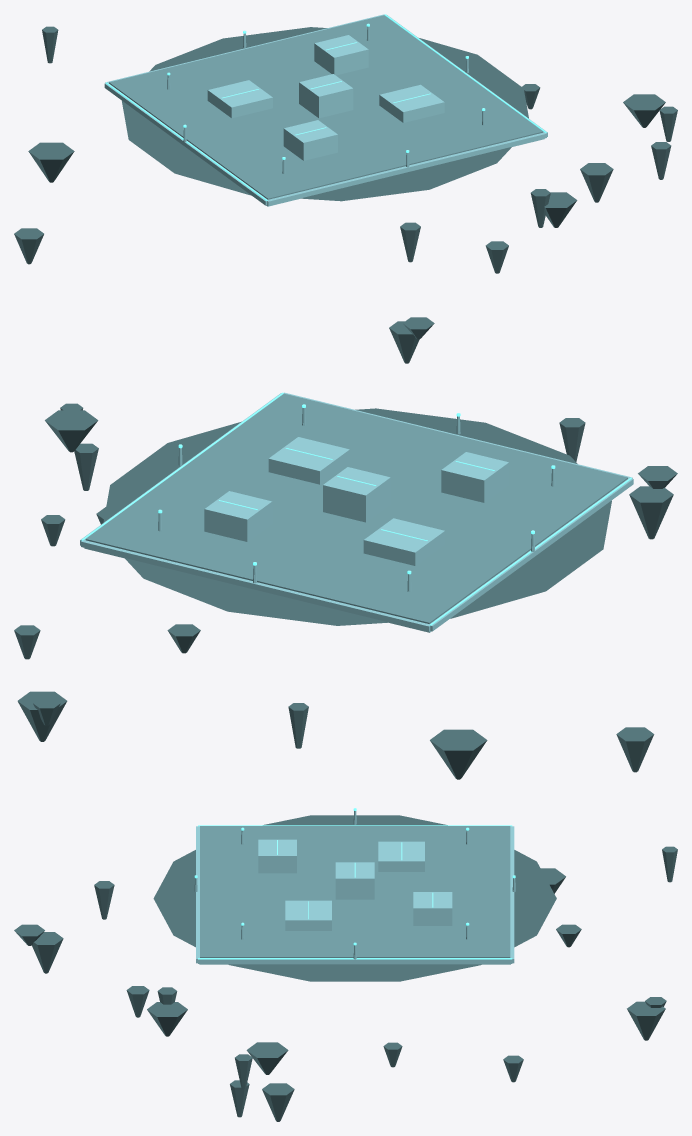
File: urano.glb
The picture shows the model from 3 angles, top to bottom: view 1: azimuth 30°, elevation 25°; view 2: azimuth 150°, elevation 25°; view 3: azimuth 270°, elevation 25°; orthographic projection. The views are drawn at different scales.
Visible parts, largest first — view 1: urano; view 2: urano; view 3: urano.
Part boxes in pixels (x1,y1,x2,y2): urano: (14, 14, 677, 363); urano: (14, 392, 677, 779); urano: (14, 808, 677, 1121).
Bounding box in the file's own units: 81.88 × 20.03 × 85.59.
